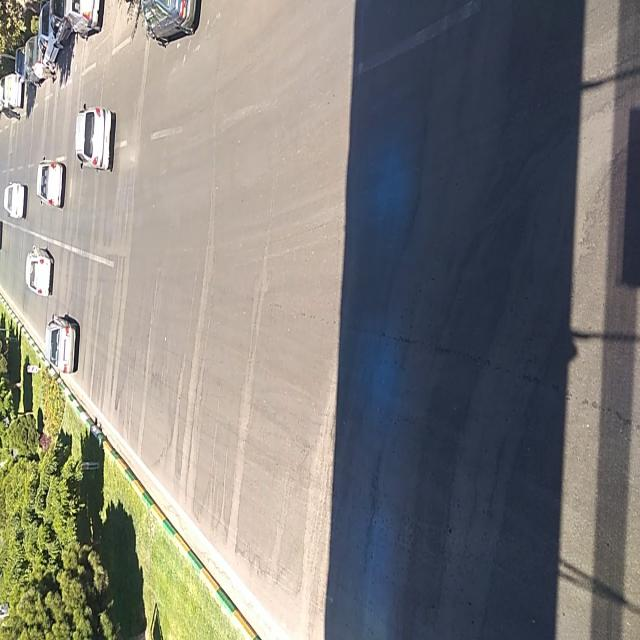car: (139, 0, 199, 50), (71, 106, 116, 168), (42, 312, 79, 371), (34, 159, 70, 207), (64, 0, 103, 44), (24, 245, 54, 295), (5, 179, 27, 215)
